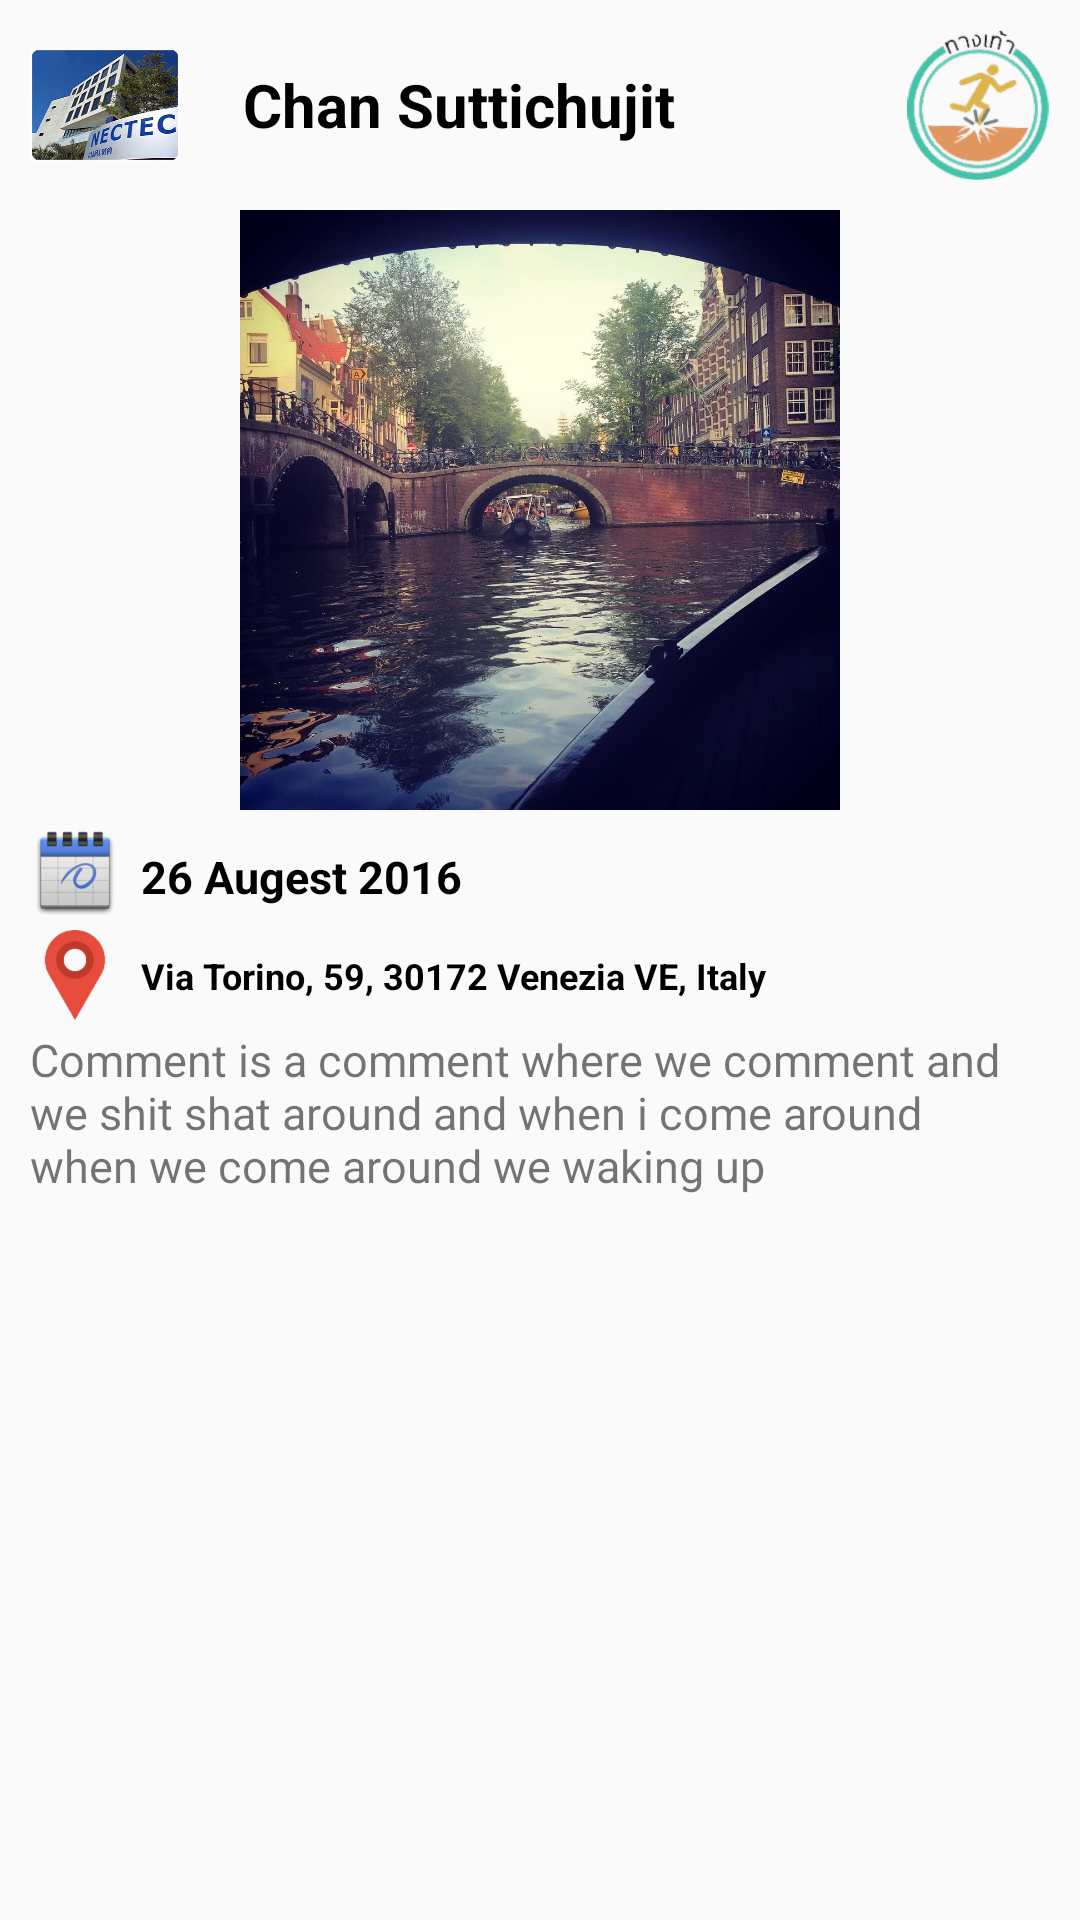

Named icons in this screenshot (1080 × 1920) and their centers, point (x, y):
calendar: point (75, 872)
location: point (75, 975)
